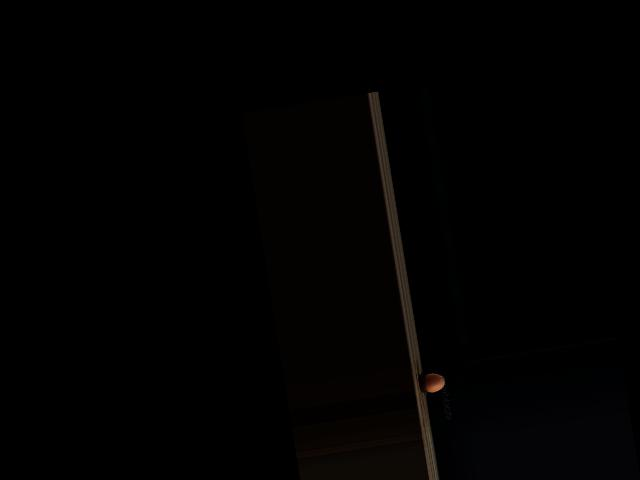egg: (422, 371, 445, 393)
